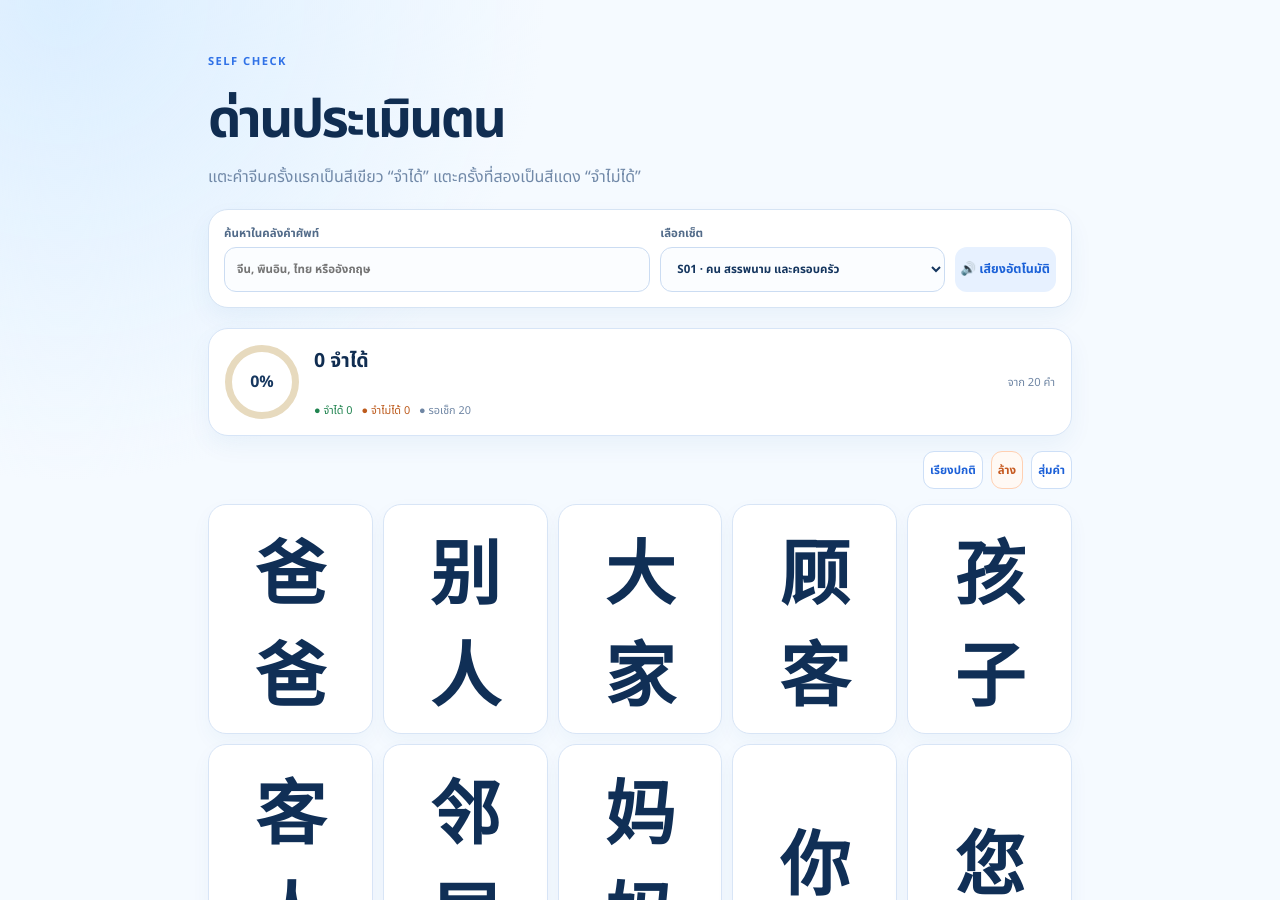
shows Chinese-only self-assessment cards that cycle from known to review
Expected: the heading "ด่านประเมินตน" is shown, [208,81,504,161]
Expected: the button with aria-label "ปิดเสียงอัตโนมัติ" is shown, [954,247,1056,292]
Click the button with aria-label "ประเมินคำศัพท์ 爸爸" at (290, 619), box [208,504,373,734]
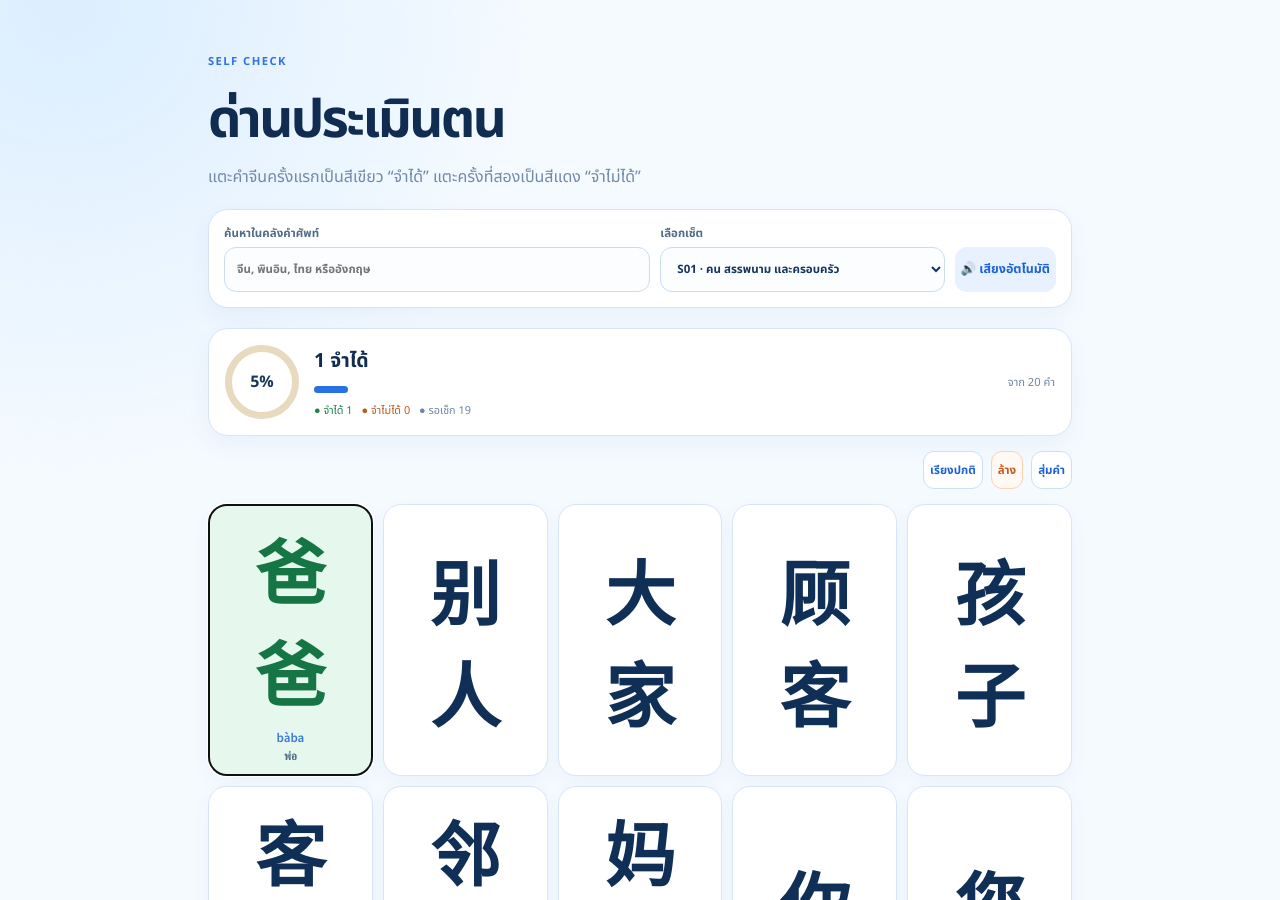
Now the button with aria-label "ประเมินคำศัพท์ 爸爸" shows "bàba"
Now the button with aria-label "ประเมินคำศัพท์ 爸爸" shows "พ่อ"
Click the button with aria-label "ประเมินคำศัพท์ 爸爸" at (290, 640), box [208,504,373,776]
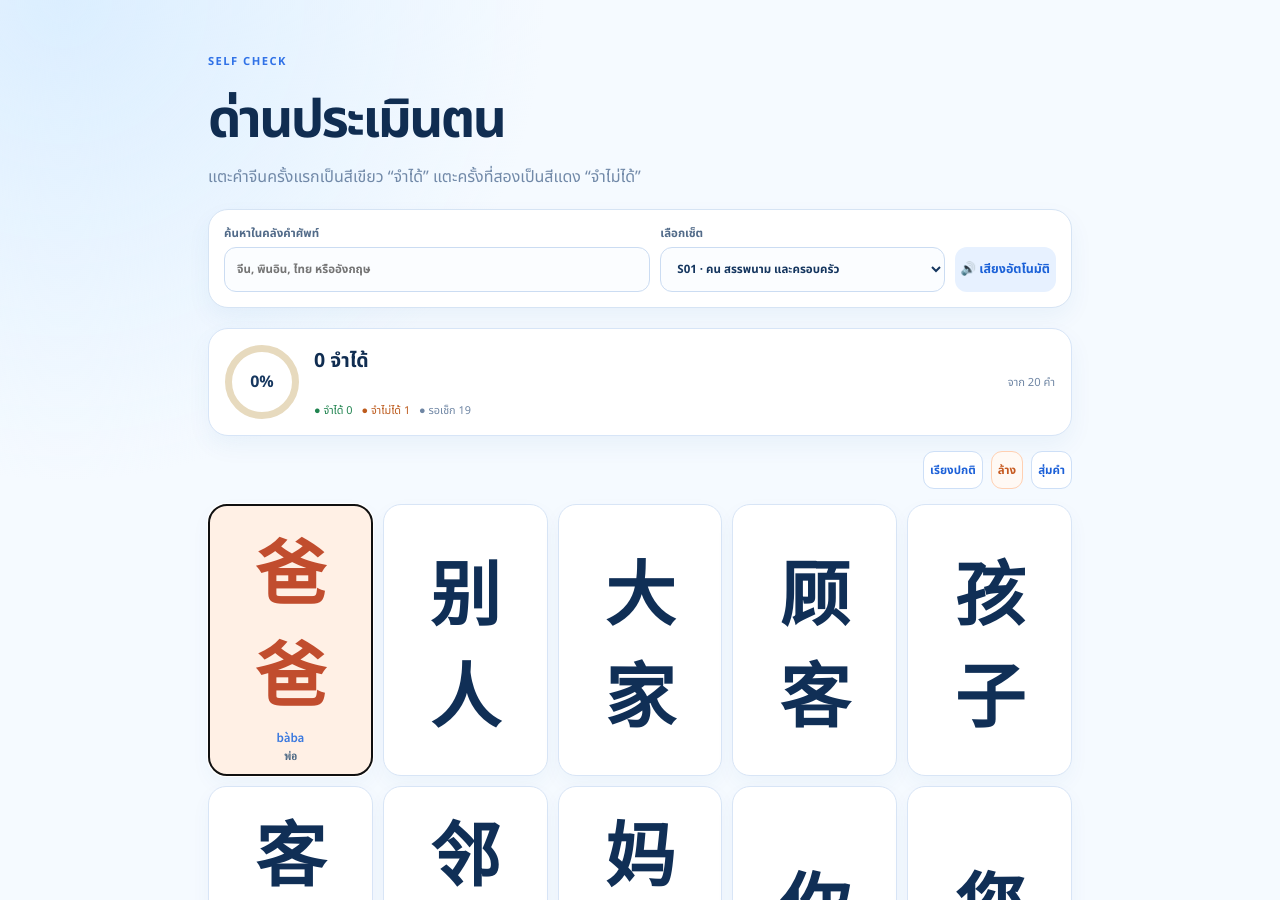
Now the button with aria-label "ประเมินคำศัพท์ 爸爸" has attribute data-status="review", box [208,504,373,776]
